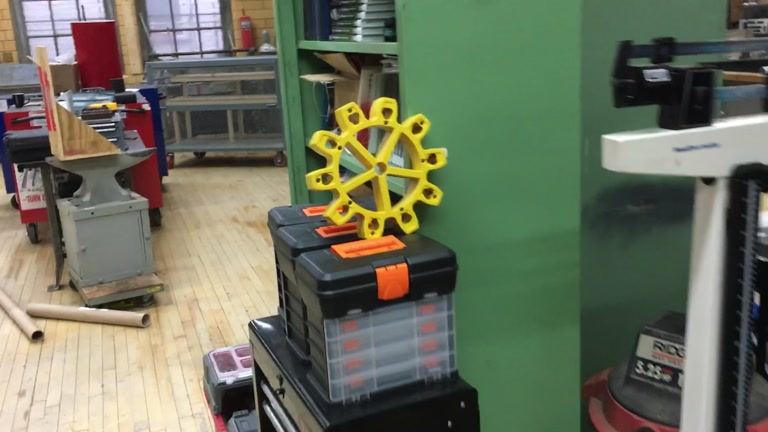gear: (304, 97, 448, 240)
